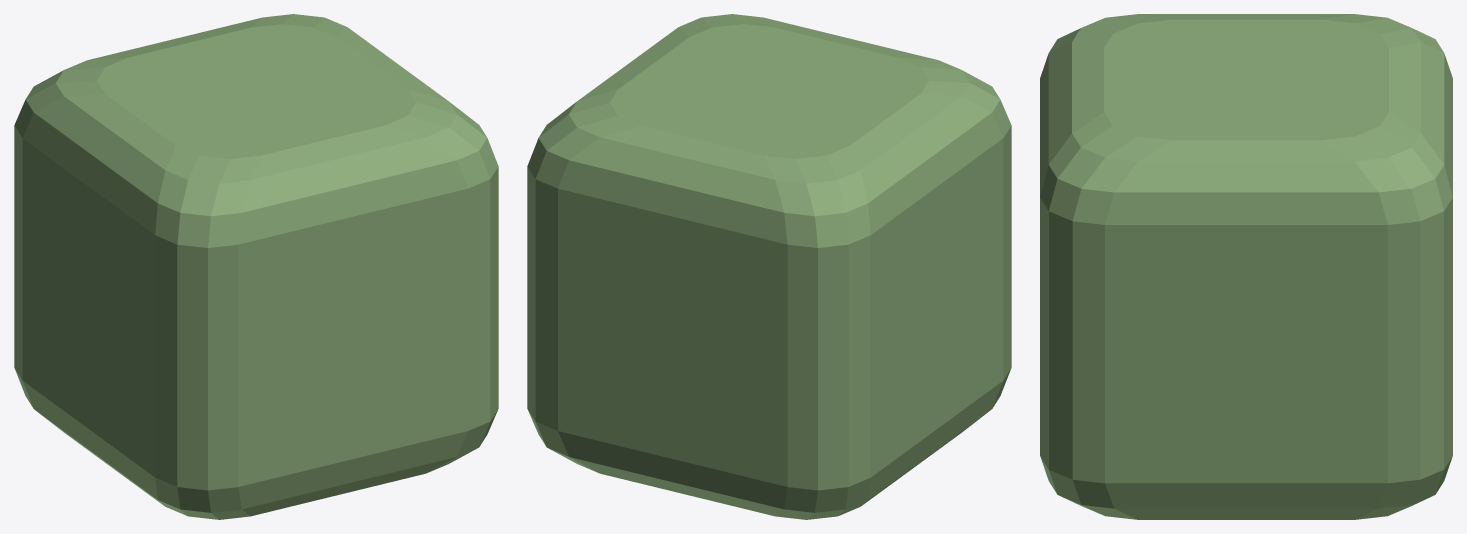
Rendered from Arvore Cidade 3.fbx.
The picture shows the model from 3 angles, left to right: view 1: azimuth 30°, elevation 25°; view 2: azimuth 150°, elevation 25°; view 3: azimuth 270°, elevation 25°; orthographic projection. The views are drawn at different scales.
Visible parts, largest first — view 1: Arvore Cidade 3; view 2: Arvore Cidade 3; view 3: Arvore Cidade 3.
Boxes of the visible parts, x1=… form: Arvore Cidade 3: x1=14, y1=14, x2=498, y2=519; Arvore Cidade 3: x1=527, y1=14, x2=1011, y2=519; Arvore Cidade 3: x1=1040, y1=14, x2=1452, y2=519.
Size of the model in its own units: 200 by 200 by 200.
